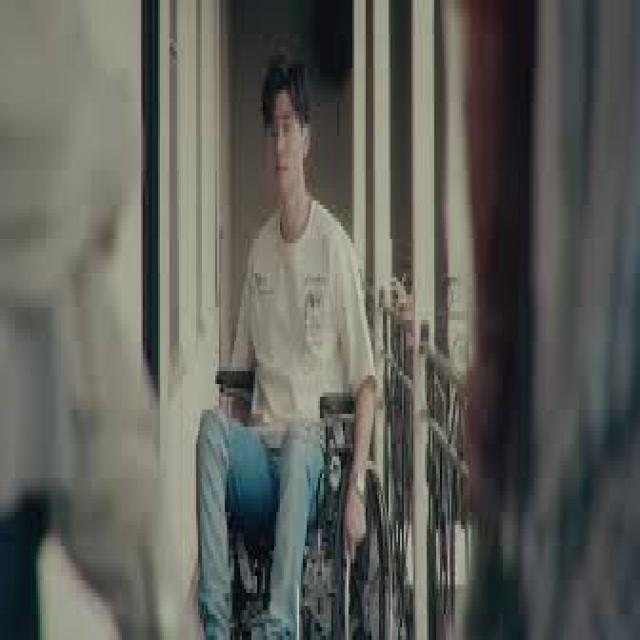peoplewithwheelchair: (181, 54, 399, 636)
